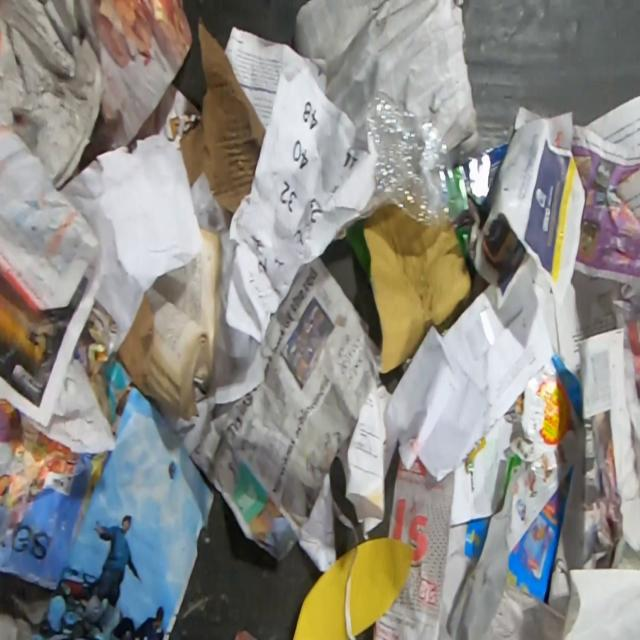cardboard: (360, 202, 472, 376), (178, 7, 266, 215), (100, 289, 156, 435)
soft_plastic: (362, 88, 470, 227)
